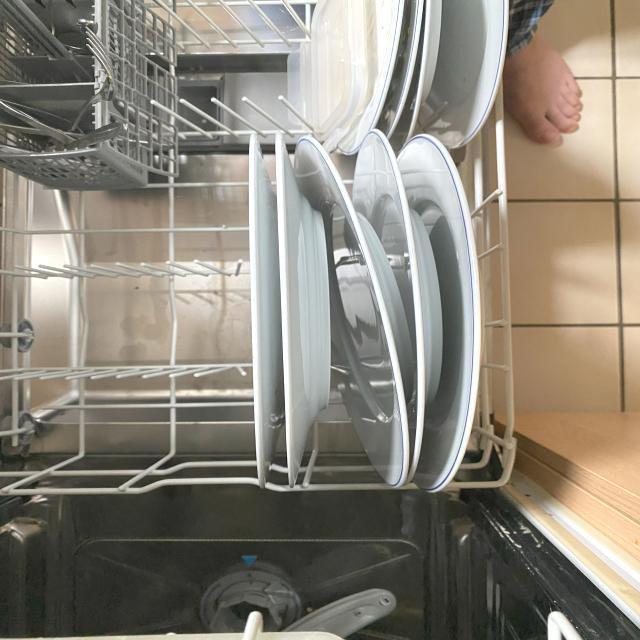clutery_bin: (8, 5, 108, 155)
empty_slot: (14, 190, 236, 482), (155, 5, 301, 144)
